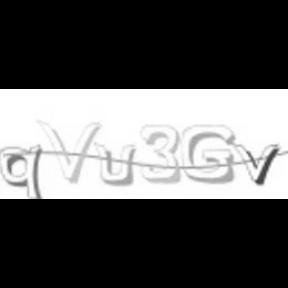3: (140, 124, 182, 186)
G: (180, 124, 236, 184)
V: (36, 117, 102, 184)
q: (0, 142, 42, 200)
u: (92, 142, 136, 186)
v: (234, 142, 282, 184)
